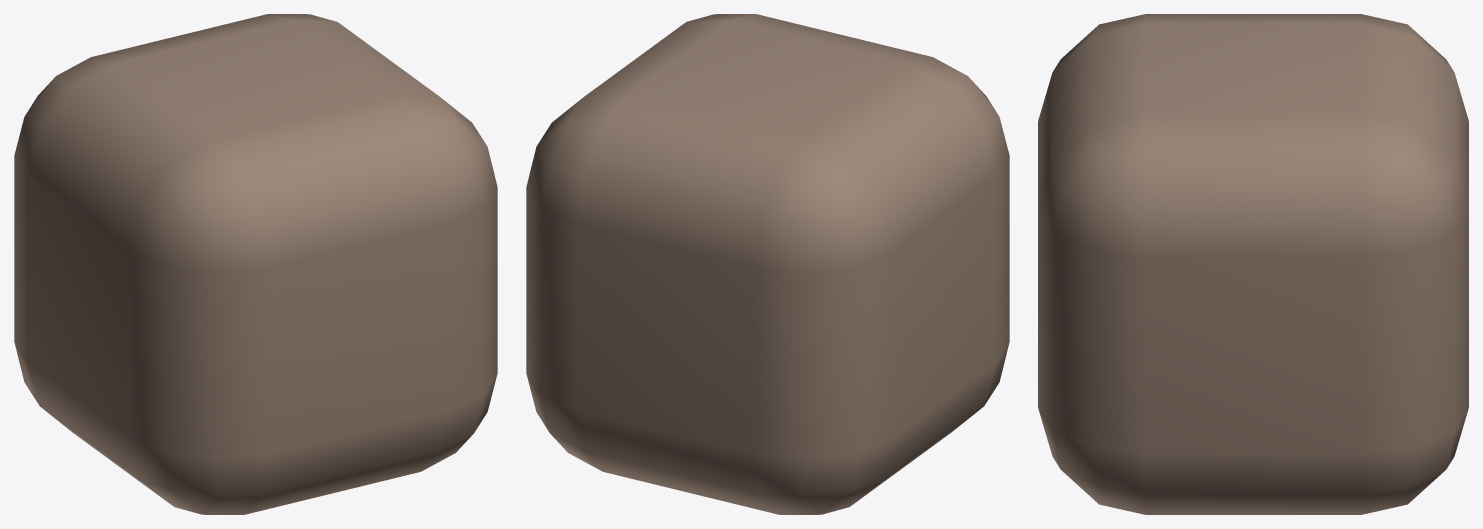
File: GroundBlock.fbx
The picture shows the model from 3 angles, left to right: view 1: azimuth 30°, elevation 25°; view 2: azimuth 150°, elevation 25°; view 3: azimuth 270°, elevation 25°; orthographic projection. The views are drawn at different scales.
Parts seen in each view (by area): view 1: ground; view 2: ground; view 3: ground.
Boxes of the visible parts, x1,y1,x2,y2 form: ground: (14,14,497,514); ground: (526,14,1009,514); ground: (1038,14,1468,514).
Bounding box in the file's own units: 2 × 2 × 2.
